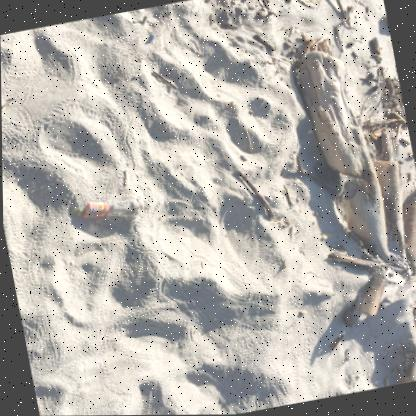Plastic: (71, 197, 143, 217)
